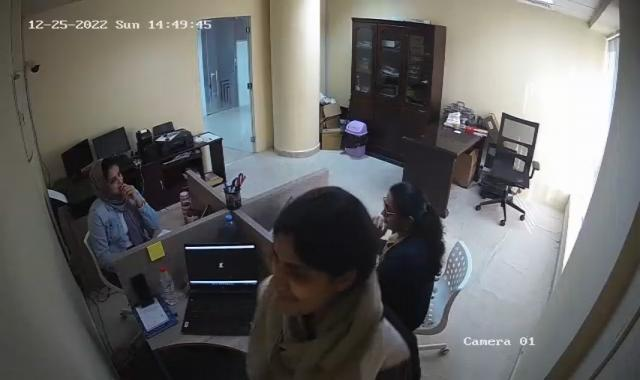no_hairnet: (266, 185, 370, 309), (381, 180, 424, 232), (87, 161, 126, 200)
